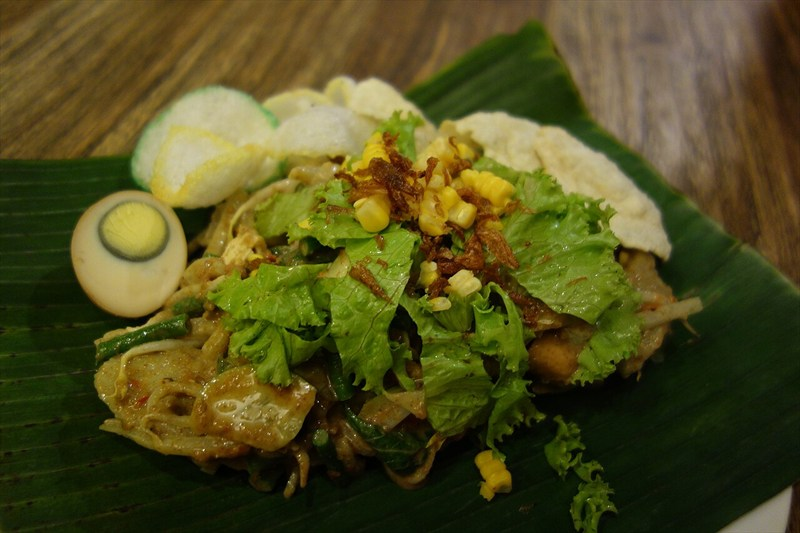Gado-Gado: (82, 75, 643, 410)
